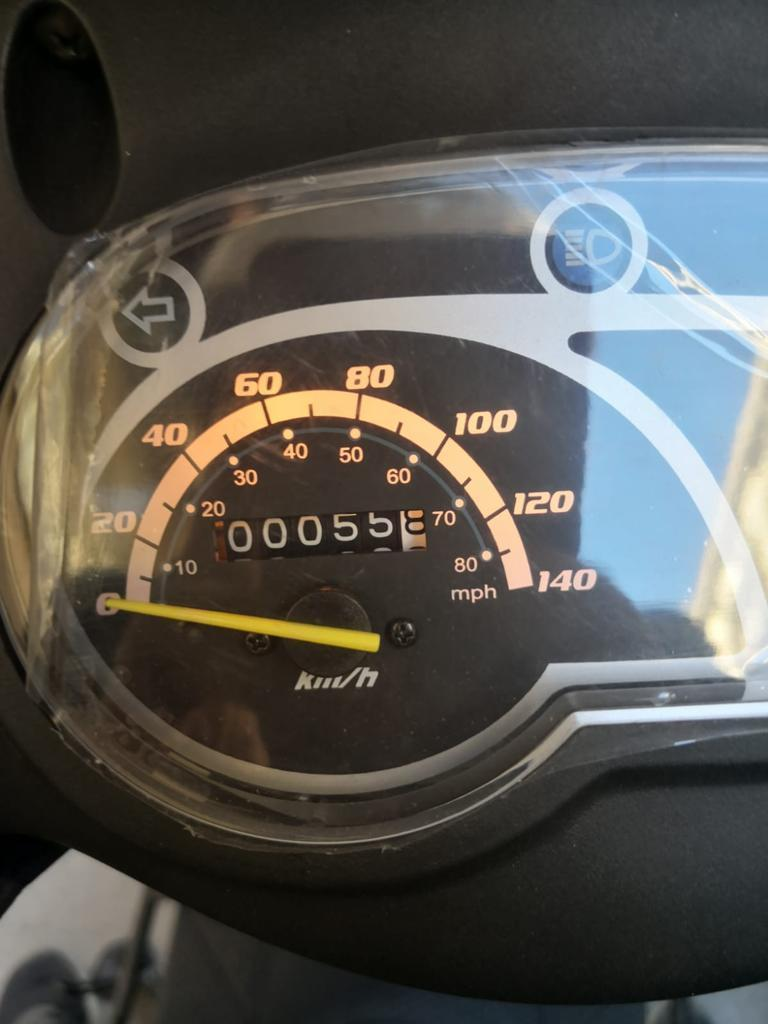0: (295, 513, 323, 547), (260, 516, 288, 549), (227, 518, 253, 553)
5: (366, 507, 393, 539), (332, 510, 358, 543)
8: (404, 505, 427, 535)
odometer: (206, 506, 430, 565)
